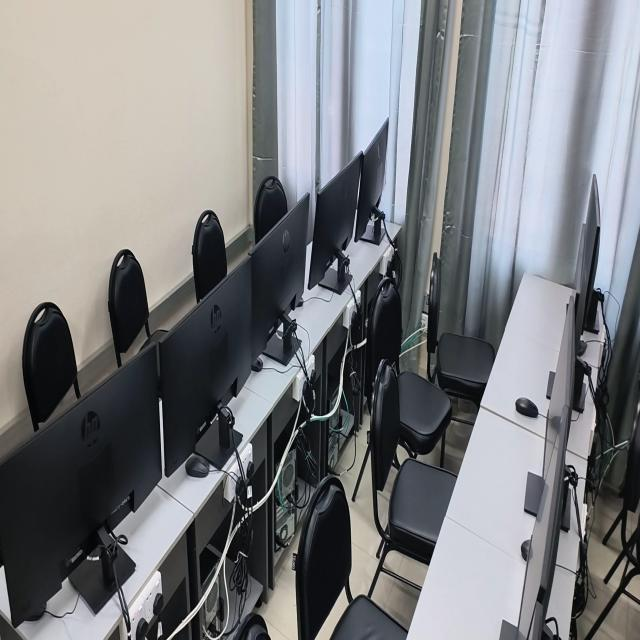Chair: (368, 360, 456, 597), (295, 475, 407, 639), (367, 271, 452, 466), (585, 401, 640, 639), (427, 252, 495, 410), (22, 302, 81, 431), (108, 249, 167, 367), (192, 210, 227, 302), (254, 175, 287, 243), (233, 613, 270, 639)
Cpu: (275, 450, 295, 551), (202, 575, 224, 636), (328, 432, 339, 471), (330, 415, 339, 424)
Monitor: (0, 347, 163, 624), (158, 261, 251, 476), (518, 407, 570, 638), (250, 196, 309, 360), (308, 152, 363, 289), (543, 292, 574, 478), (576, 174, 601, 345), (354, 120, 388, 241), (529, 601, 543, 639)
Mouse: (185, 454, 210, 477), (516, 397, 538, 418), (521, 536, 531, 561), (251, 356, 263, 372), (576, 340, 587, 356)
